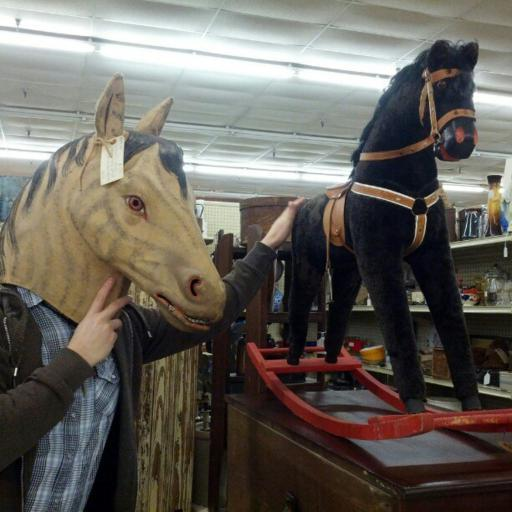horse: (284, 38, 484, 416), (0, 73, 229, 334)
